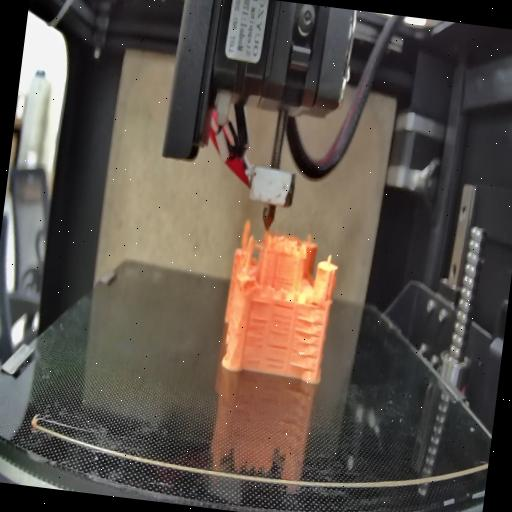cracks: (290, 318, 324, 374), (241, 314, 268, 369), (268, 304, 296, 342), (264, 342, 291, 374), (248, 296, 270, 311), (274, 272, 294, 287), (304, 298, 320, 308)
